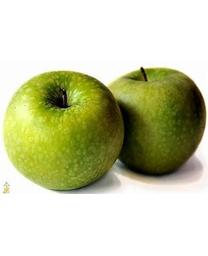apple: (2, 70, 124, 190), (105, 65, 206, 175)
